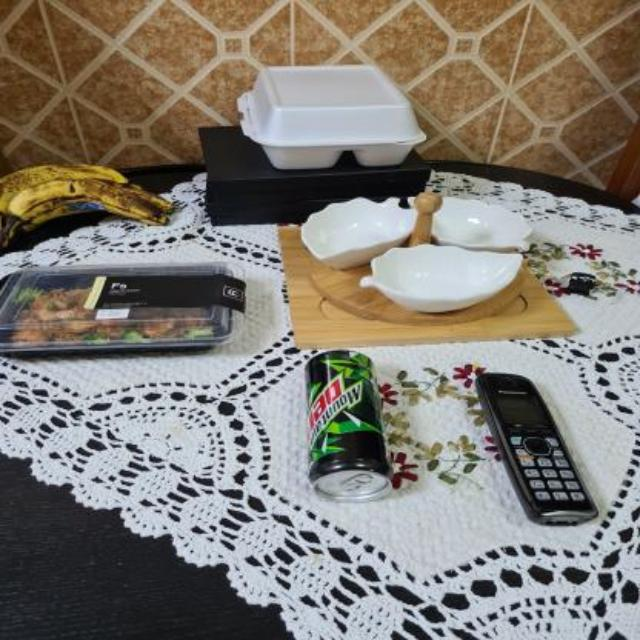metal: (308, 351, 391, 498)
